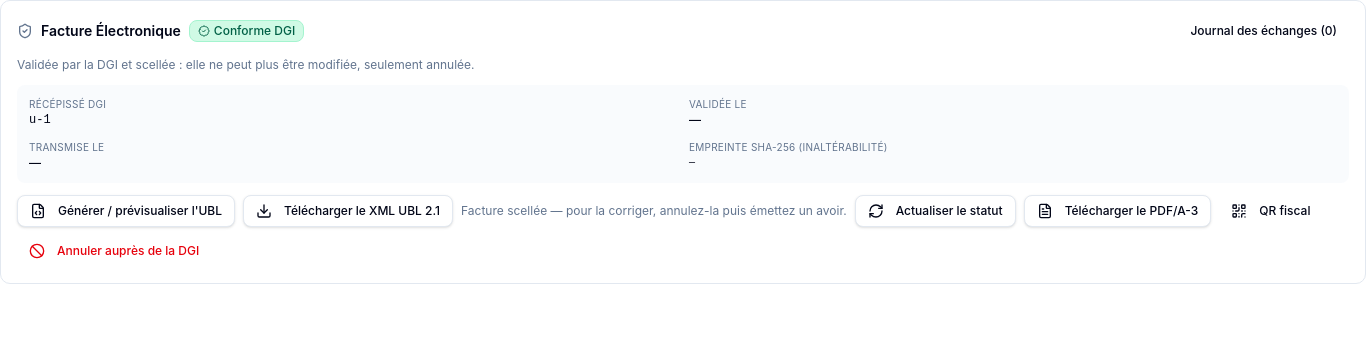
Test: FactureElectroniquePanel — actions offertes selon l'état › demande le document au serveur au lieu de verser l'archive dans un fichier
Click the button "Télécharger le XML UBL 2.1". click: coordinates (348, 211)
box: [243,195,453,227]
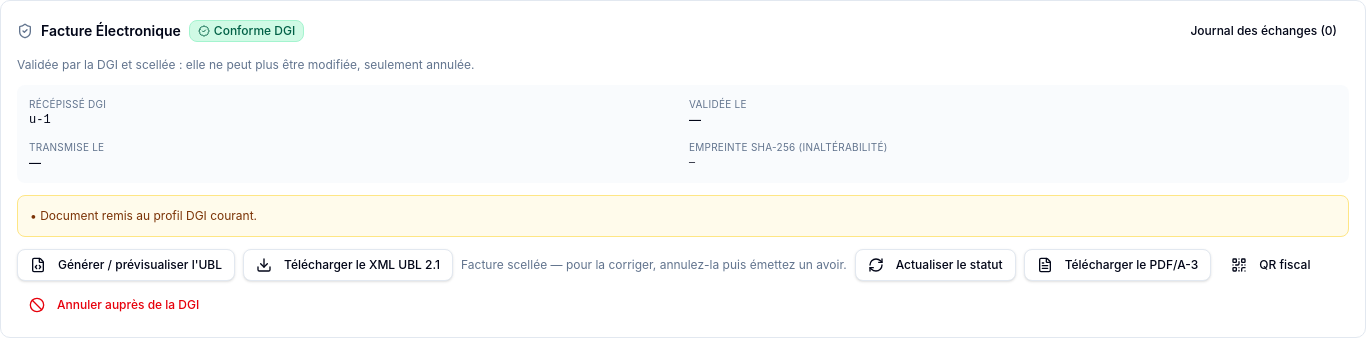
Expected: the text "Document remis au profil DGI courant." is shown, [40,208,257,223]
